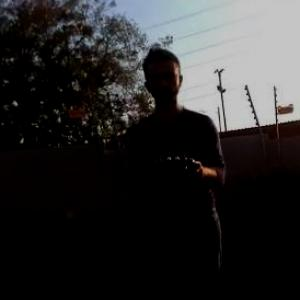follow: (124, 37, 233, 299)
